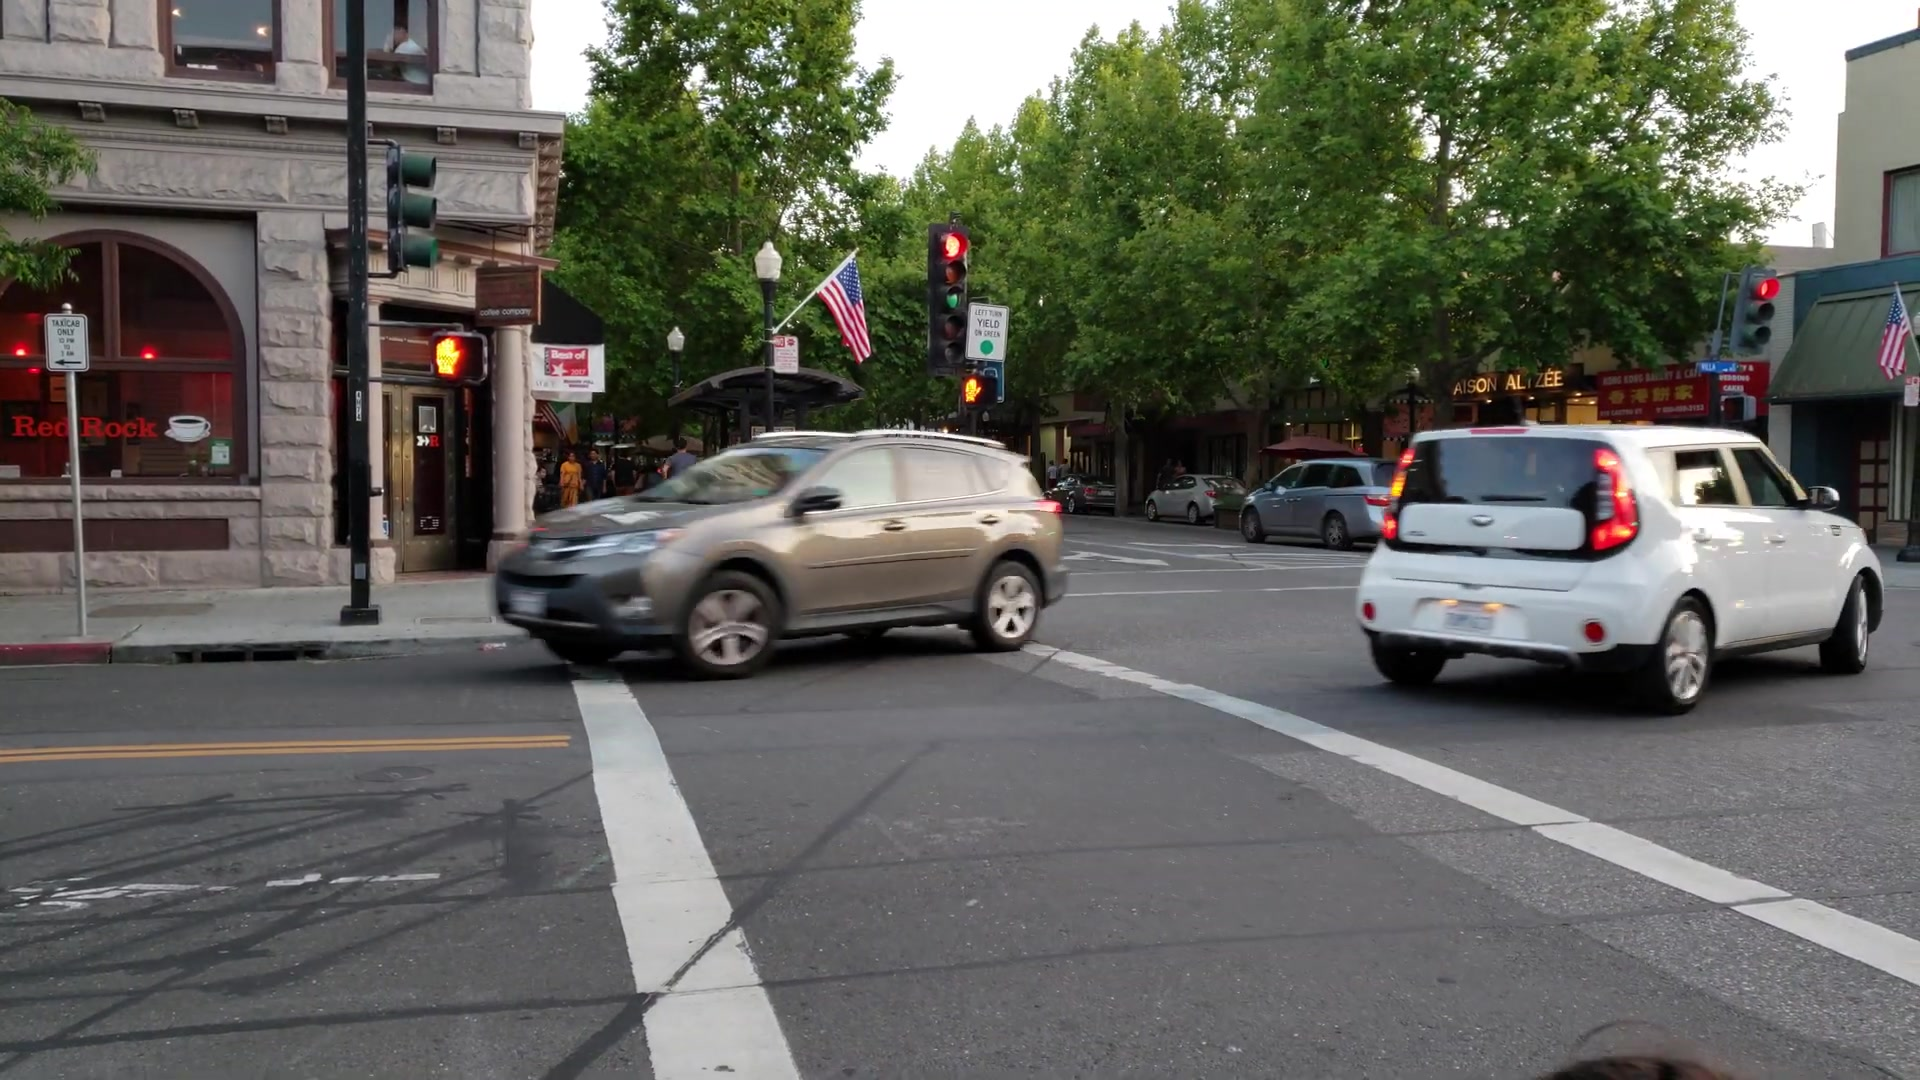vehicle: (1352, 425, 1888, 713), (493, 429, 1072, 676)
